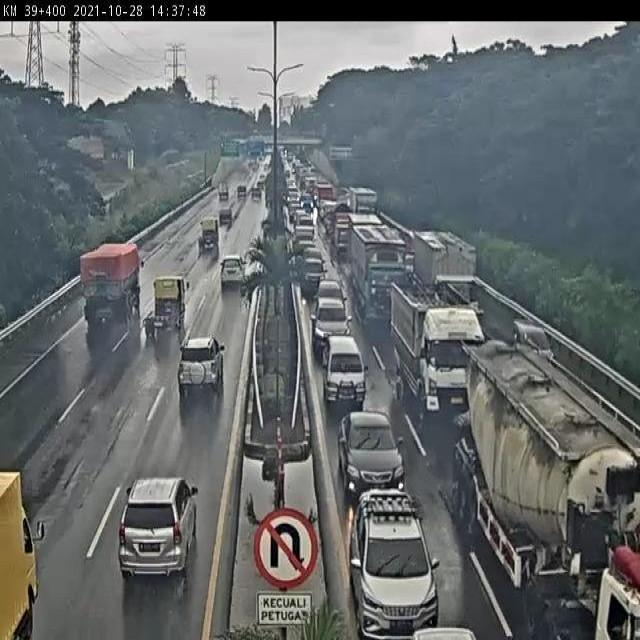car: (349, 490, 436, 630)
truck-l-: (390, 277, 479, 412), (351, 223, 413, 325), (412, 229, 476, 316), (79, 242, 140, 322)
truck-s-: (141, 276, 192, 339), (196, 219, 221, 257)
truck-xl-: (453, 336, 640, 639)
